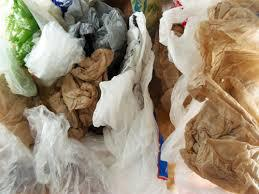Plastic: (163, 2, 258, 193)
